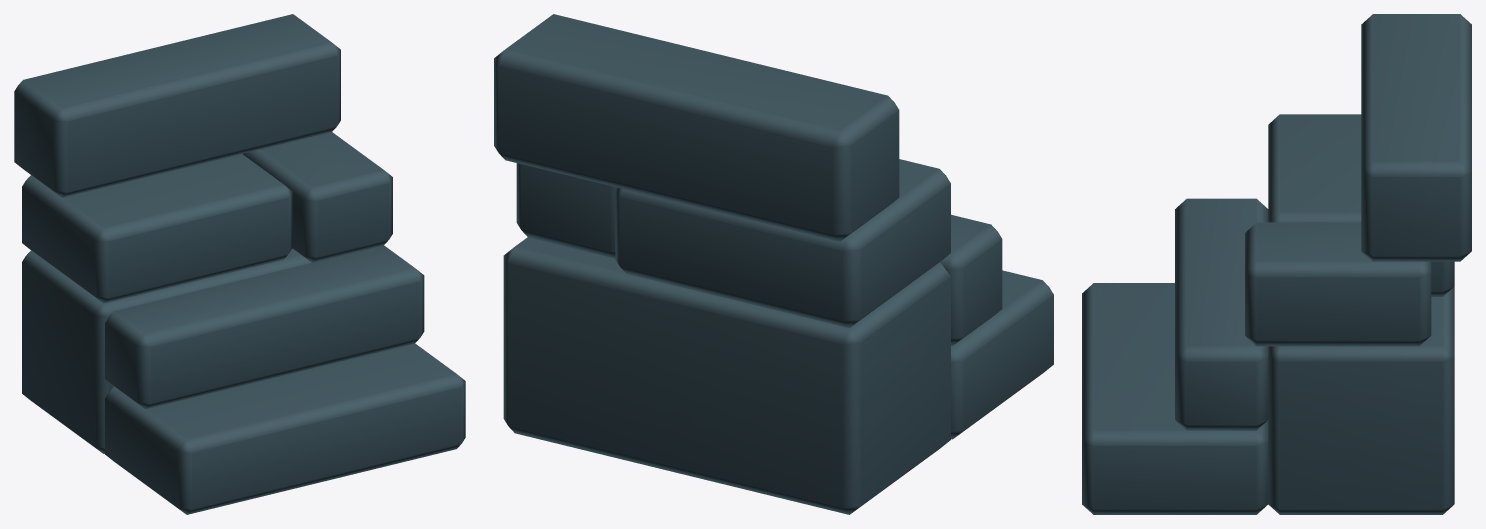
File: stair_straight_1_hue_3.fbx
The picture shows the model from 3 angles, left to right: view 1: azimuth 30°, elevation 25°; view 2: azimuth 150°, elevation 25°; view 3: azimuth 270°, elevation 25°; orthographic projection. The views are drawn at different scales.
Visible parts, largest first — view 1: stair_straight_1_hue_3; view 2: stair_straight_1_hue_3; view 3: stair_straight_1_hue_3.
Boxes of the visible parts, x1,y1,x2,y2 form: stair_straight_1_hue_3: (14,14,465,514); stair_straight_1_hue_3: (494,14,1053,514); stair_straight_1_hue_3: (1082,14,1471,514).
Size of the model in its own units: 100 by 105 by 105.
